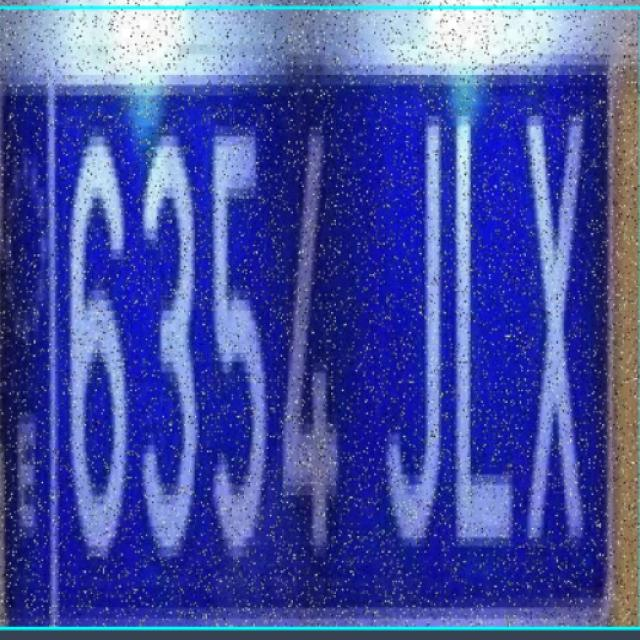3: (142, 133, 208, 563)
4: (282, 127, 340, 563)
5: (210, 133, 275, 563)
6: (63, 127, 138, 561)
J: (384, 114, 450, 548)
L: (454, 120, 519, 545)
X: (520, 107, 601, 547)
